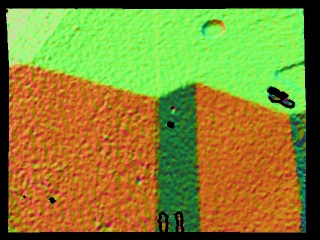station: (158, 210, 185, 234)
